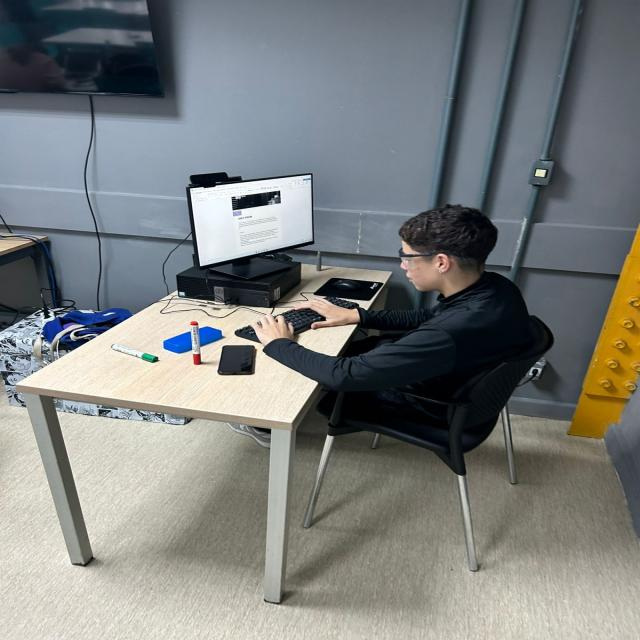oculos-epi: (398, 247, 436, 269)
